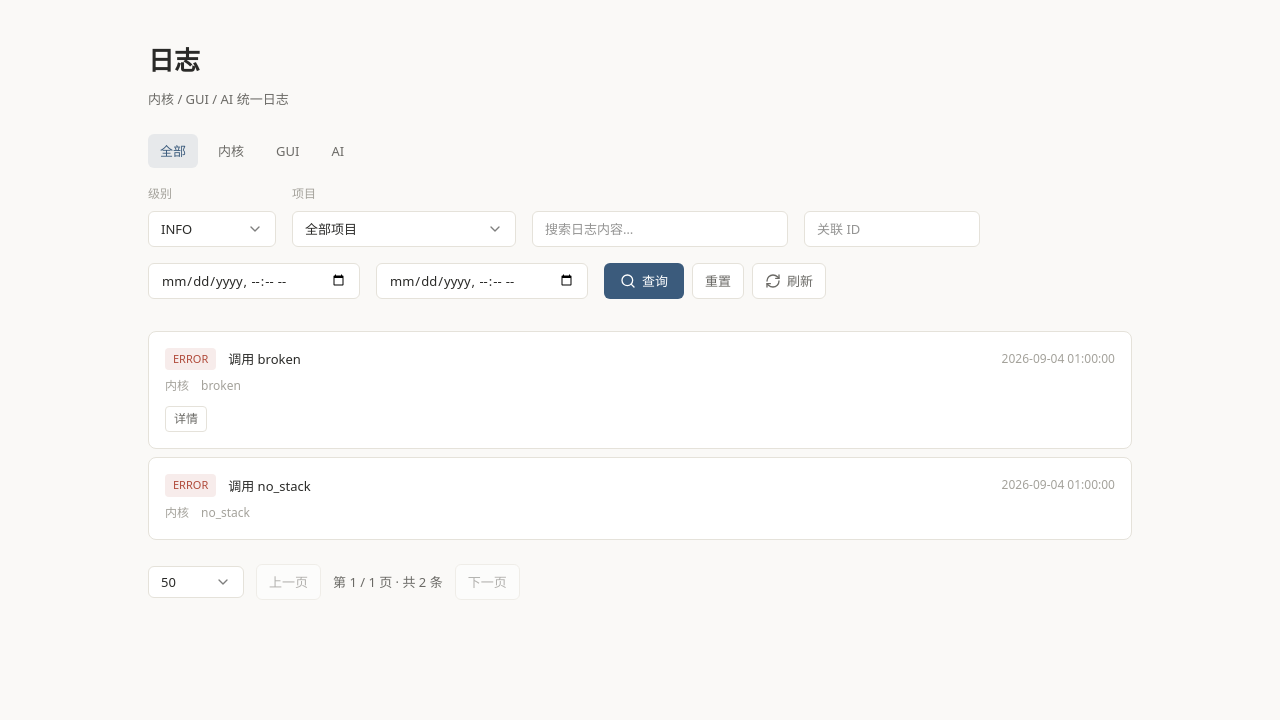
日志页 — #930 卡片可读性（log.call 词条 / duration 格式化 / params 摘要 / stack） › 【R】ERROR 带 stack → 点 log-stack-toggle 展开 log-stack，再点收起；无 stack 无按钮
Click the button with test id "log-stack-toggle": (186, 419) left=165, top=406, right=207, bottom=432
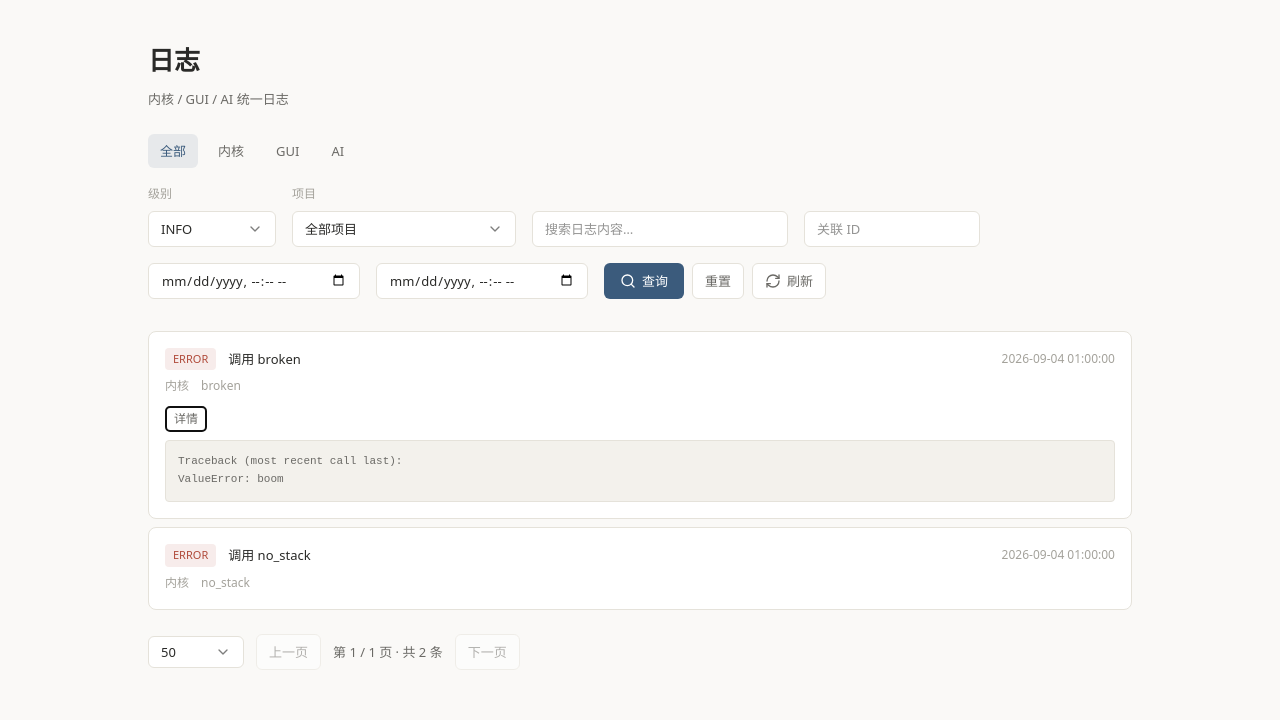
Now the text with test id "log-stack" shows "ValueError: boom", box left=178, top=455, right=402, bottom=485
Click the button with test id "log-stack-toggle": (186, 419) left=165, top=406, right=207, bottom=432
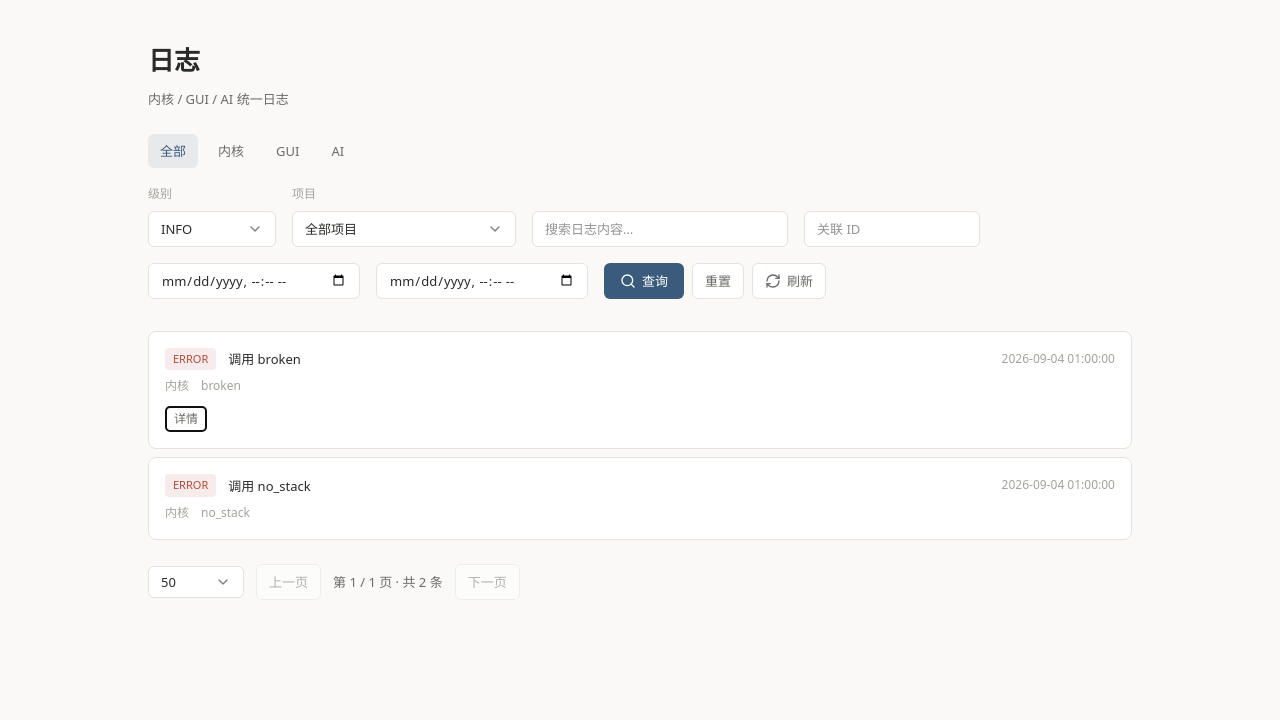
Now the text with test id "log-stack" is gone
